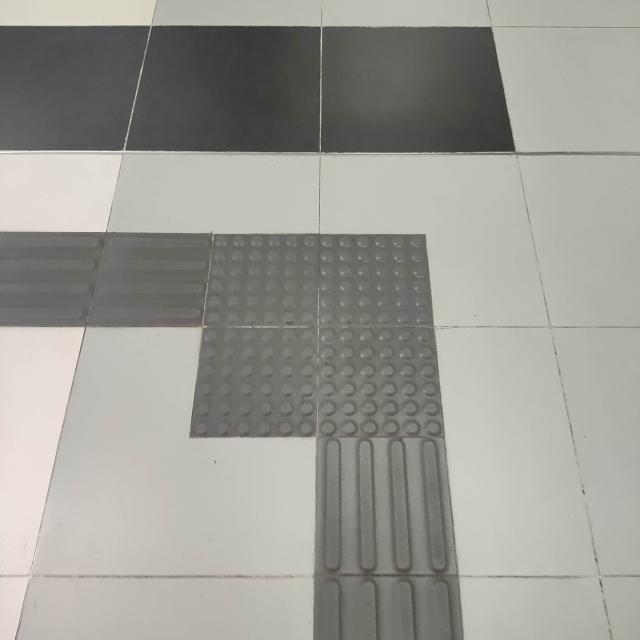kiri: (37, 207, 537, 518)
